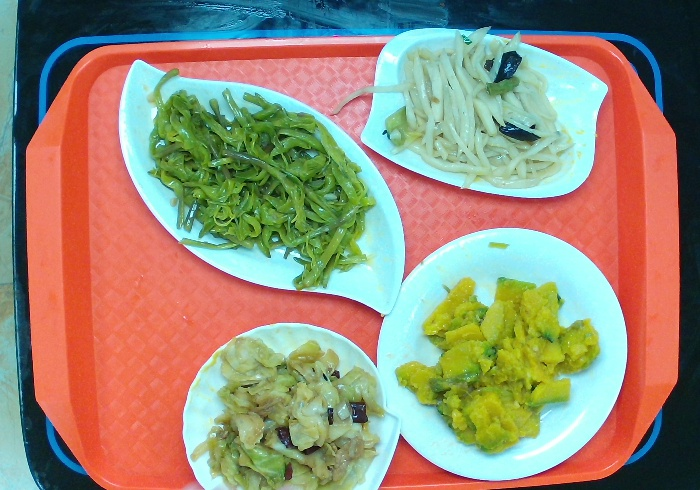RJxy-Bei_Ke_Wan: (169, 316, 408, 488)
RJxy-Jian_Jiao_Fang_Die: (357, 24, 618, 201)
RJxy-Jian_Jiao_Pan: (105, 49, 412, 321)
RJxy-Yuan_Pan: (366, 216, 633, 485)
